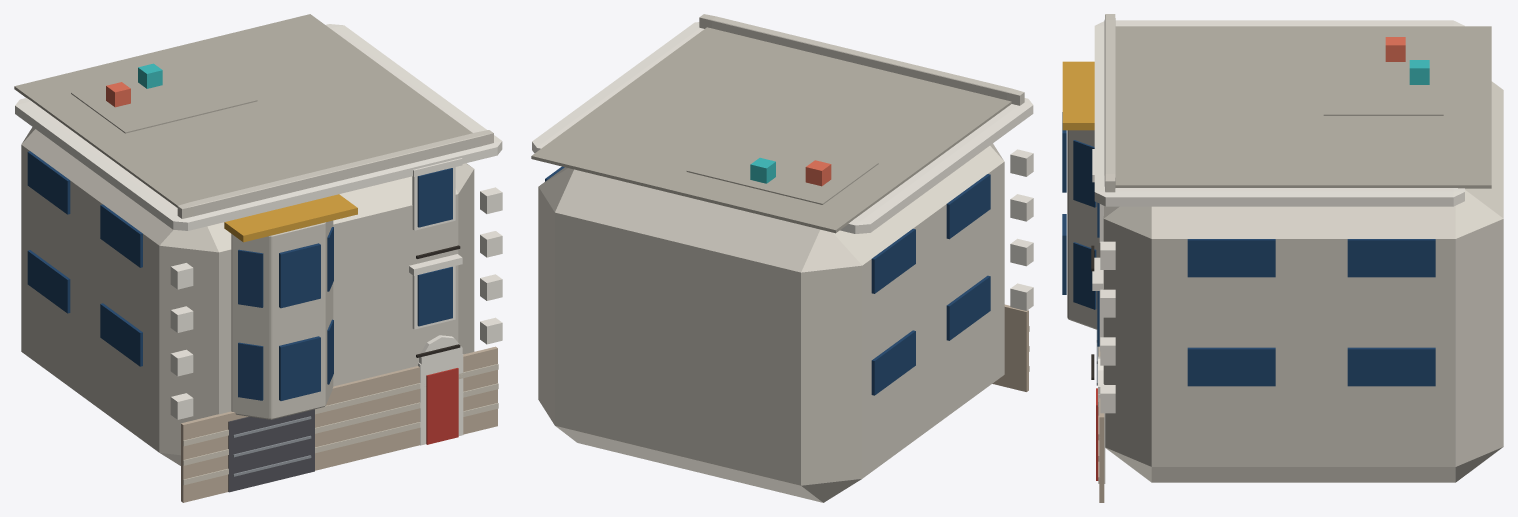
File: marina_w11_flat.glb
3 renders of one model, left to right at view 1: azimuth 30°, elevation 25°; view 2: azimuth 150°, elevation 25°; view 3: azimuth 270°, elevation 25°, orthographic. The views are drawn at different scales.
Parts seen in each view (by area): view 1: walls, roofslab, base, bay, corn, deckf, gdoor, parapet, scallop, bw.001, bw, edoor (+23 smaller); view 2: walls, roofslab, corn, deckf, parapet, base, sb.002, sb, sb.004, sb.006, chair, quoin.002 (+4 smaller); view 3: walls, roofslab, corn, deckf, sb.001, sb.003, sb.005, sb.007, bay, scallop, parapet, bwa.001 (+4 smaller).
Part boxes in pixels (x1,y1,x2,y2): walls: (21, 127, 474, 465); roofslab: (14, 14, 472, 207); base: (181, 346, 497, 502); bay: (231, 220, 333, 419); corn: (15, 24, 502, 230); deckf: (71, 60, 257, 133); gdoor: (228, 409, 314, 492); parapet: (177, 130, 493, 218); scallop: (224, 194, 357, 242); bw.001: (279, 243, 320, 308); bw: (279, 336, 320, 400); edoor: (426, 368, 458, 444); walls: (538, 143, 1004, 502); roofslab: (531, 27, 1011, 233); corn: (532, 22, 1033, 233); deckf: (686, 129, 878, 204); parapet: (699, 14, 1024, 105); base: (992, 304, 1028, 391); sb.002: (871, 330, 915, 395); sb: (946, 275, 990, 340); sb.004: (946, 174, 990, 239); sb.006: (871, 228, 915, 293); chair: (805, 160, 831, 186); quoin.002: (1010, 194, 1033, 221); walls: (1103, 81, 1503, 482); roofslab: (1115, 26, 1491, 188); corn: (1094, 20, 1464, 206); deckf: (1323, 43, 1443, 115); sb.001: (1187, 347, 1275, 386); sb.003: (1347, 347, 1435, 386); sb.005: (1187, 239, 1275, 277); sb.007: (1347, 239, 1435, 277); bay: (1067, 130, 1100, 329); scallop: (1062, 61, 1094, 130); parapet: (1104, 14, 1115, 192); bwa.001: (1073, 242, 1096, 309).
Size of the model in its own units: 11.5 by 10.02 by 12.14.
